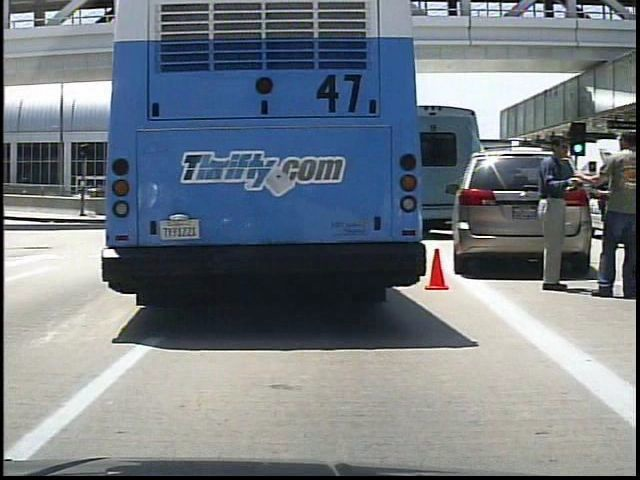person: (583, 124, 638, 299), (535, 129, 584, 293)
